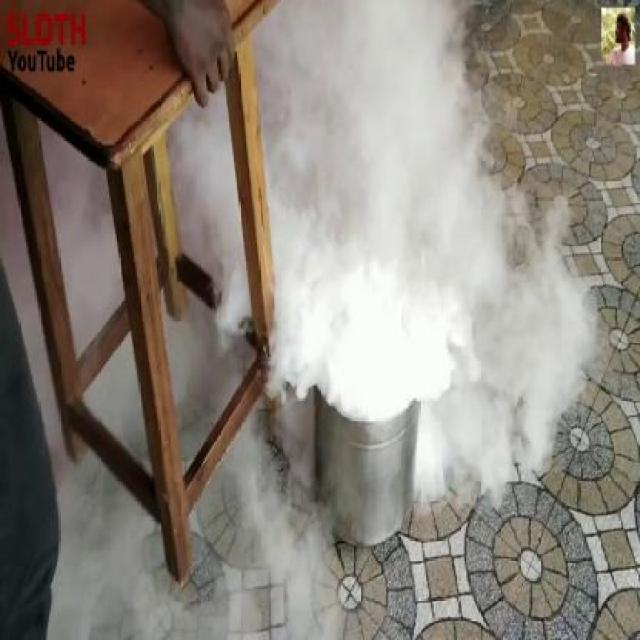Smoke: (228, 0, 596, 513)
